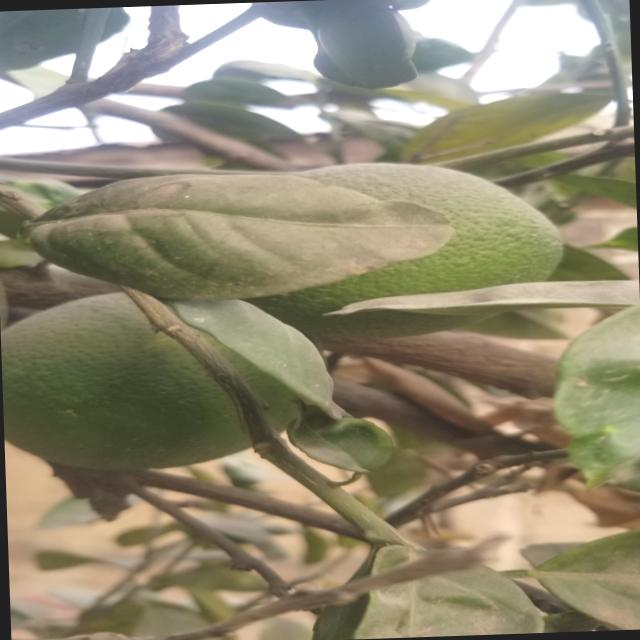Unripe: (207, 158, 572, 340), (9, 287, 325, 468)
